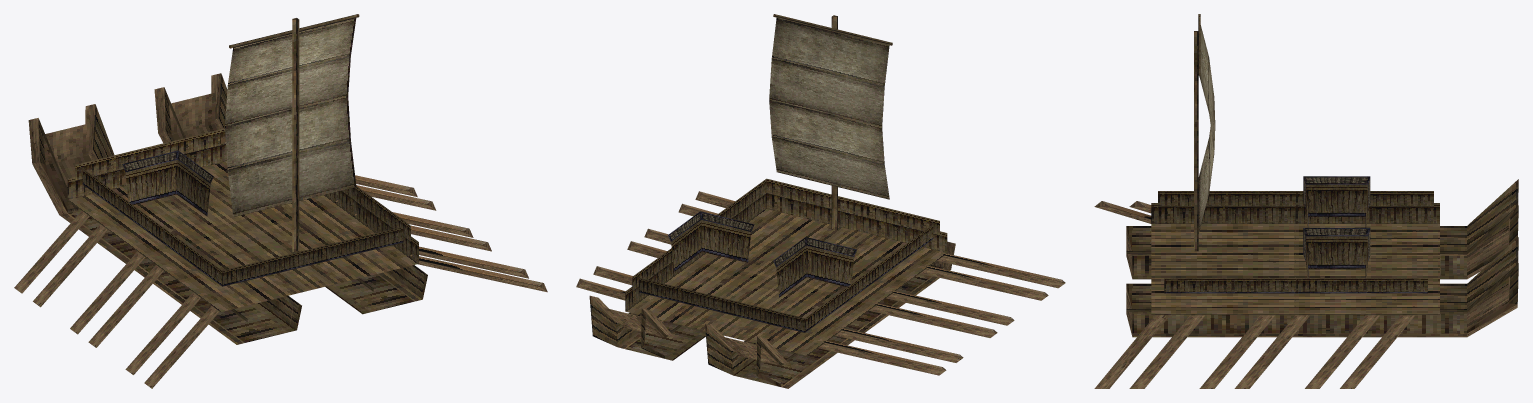
The model's file is ps2_save-icons_romanceofthethreekingdomsxipuk.glb.
The picture shows the model from 3 angles, left to right: view 1: azimuth 30°, elevation 25°; view 2: azimuth 150°, elevation 25°; view 3: azimuth 270°, elevation 25°; orthographic projection. The views are drawn at different scales.
Parts seen in each view (by area): view 1: mc_san11.ico; view 2: mc_san11.ico; view 3: mc_san11.ico.
Boxes of the visible parts, bbox=[...] form: mc_san11.ico: bbox=[14, 14, 547, 388]; mc_san11.ico: bbox=[576, 14, 1065, 388]; mc_san11.ico: bbox=[1094, 14, 1518, 388].
Size of the model in its own units: 4.95 by 3.37 by 4.88.
1 material, 1 textured.
